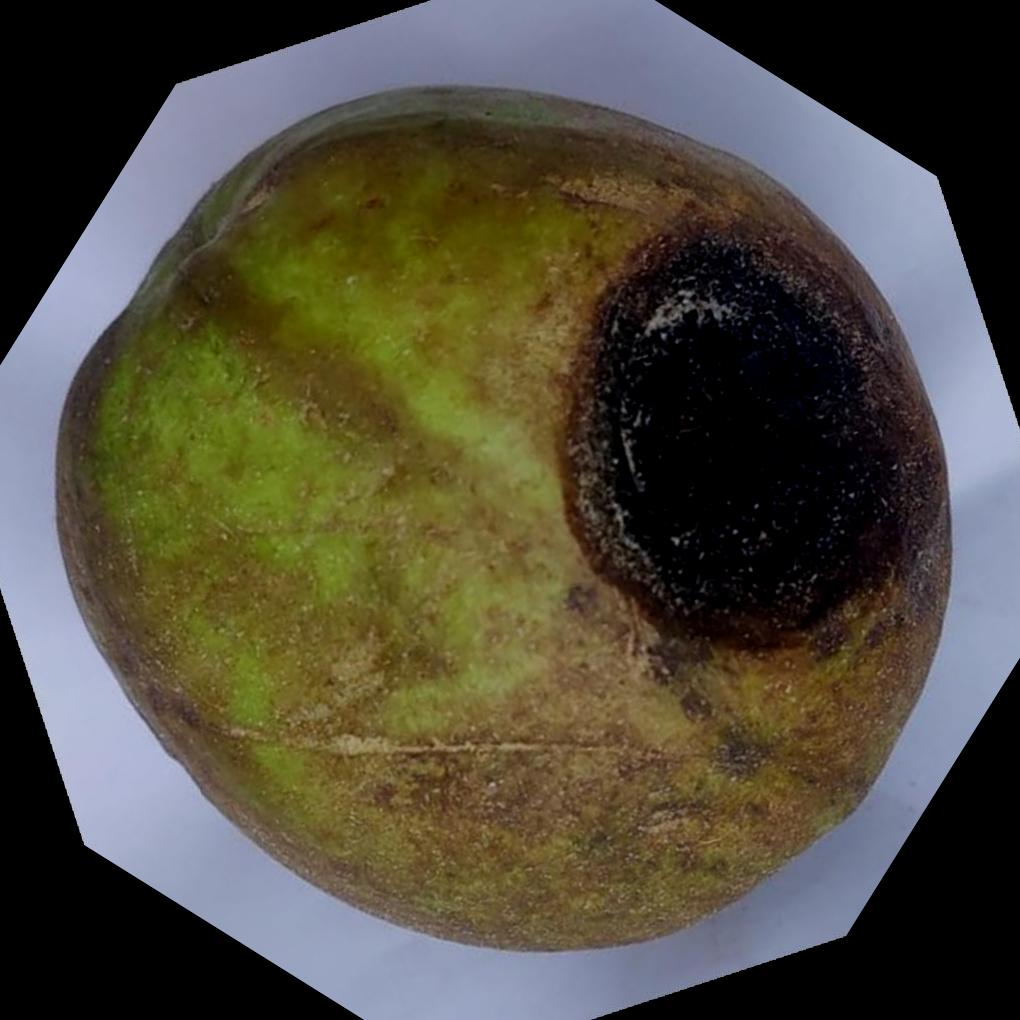FreshOrange: (56, 85, 958, 956)
